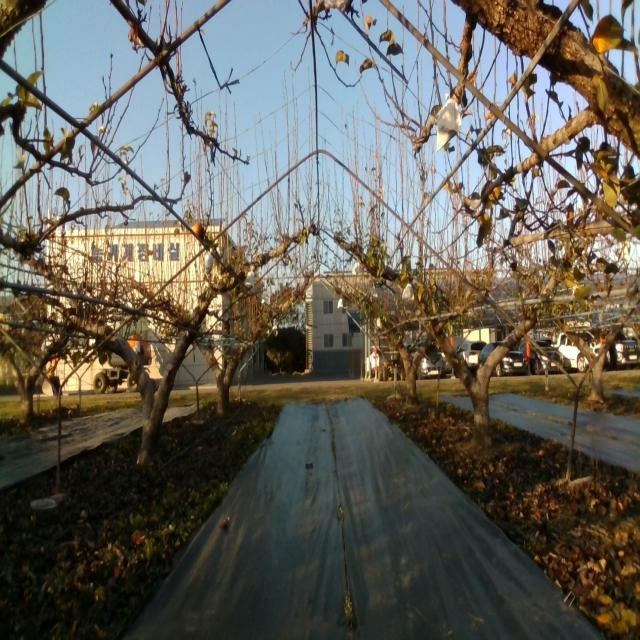pearbags: (435, 91, 462, 150), (204, 248, 214, 276), (402, 283, 414, 301), (245, 270, 255, 288)
